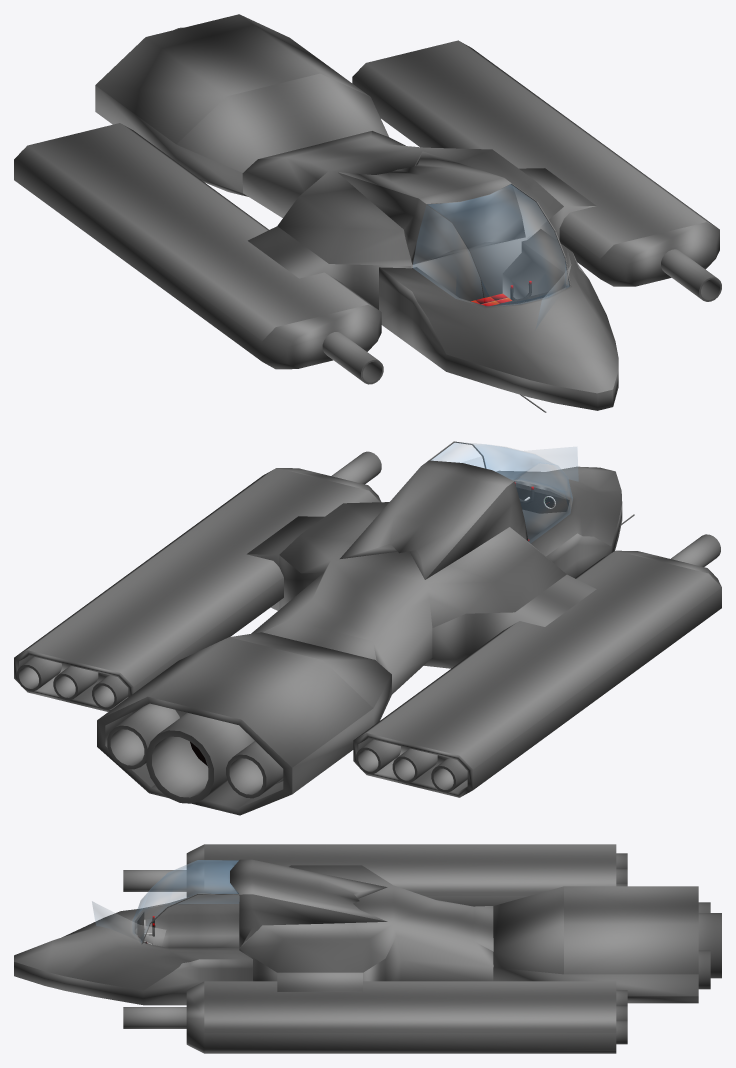
The model's file is Spaceship.FBX.
The picture shows the model from 3 angles, top to bottom: view 1: azimuth 30°, elevation 25°; view 2: azimuth 150°, elevation 25°; view 3: azimuth 270°, elevation 25°; orthographic projection. The views are drawn at different scales.
Parts seen in each view (by area): view 1: Body, Left Wing001, Left Wing, Box016, Front, Front Window, Right Window, Tube013, Tube011; view 2: Body, Left Wing001, Left Wing, Box016, Front, Tube004, Front Window, Right Window, Tube006, Tube005, Tube009, Tube008 (+8 smaller); view 3: Left Wing, Body, Box016, Front, Left Wing001, Front Window, Right Window, Tube011, Tube013, Left Window, Tube004, Tube006.
Boxes of the visible parts, bbox=[...] form: Body: bbox=[242, 131, 596, 309]; Left Wing001: bbox=[14, 123, 381, 369]; Left Wing: bbox=[352, 40, 719, 286]; Box016: bbox=[95, 14, 388, 196]; Front: bbox=[379, 229, 618, 410]; Front Window: bbox=[428, 184, 569, 306]; Right Window: bbox=[413, 205, 484, 306]; Tube013: bbox=[322, 332, 383, 384]; Tube011: bbox=[661, 249, 721, 301]; Body: bbox=[247, 460, 596, 694]; Left Wing001: bbox=[353, 550, 721, 797]; Left Wing: bbox=[14, 468, 381, 711]; Box016: bbox=[97, 632, 391, 815]; Front: bbox=[496, 466, 622, 578]; Tube004: bbox=[146, 712, 254, 803]; Front Window: bbox=[431, 442, 571, 497]; Right Window: bbox=[515, 463, 572, 542]; Tube006: bbox=[107, 703, 179, 769]; Tube005: bbox=[226, 741, 283, 798]; Tube009: bbox=[16, 656, 61, 691]; Tube008: bbox=[53, 665, 98, 700]; Left Wing: bbox=[186, 981, 616, 1053]; Body: bbox=[230, 859, 493, 991]; Box016: bbox=[493, 886, 698, 1003]; Front: bbox=[14, 894, 252, 1005]; Left Wing001: bbox=[186, 844, 616, 906]; Front Window: bbox=[133, 860, 238, 942]; Right Window: bbox=[143, 860, 239, 908]; Tube011: bbox=[123, 1007, 186, 1028]; Tube013: bbox=[123, 870, 186, 891]; Left Window: bbox=[92, 901, 165, 946]; Tube004: bbox=[698, 913, 721, 978]; Tube006: bbox=[698, 950, 710, 989].
Bounding box in the file's own units: 879 × 240 × 1418.
Materials: 4 (4 with a texture image).
